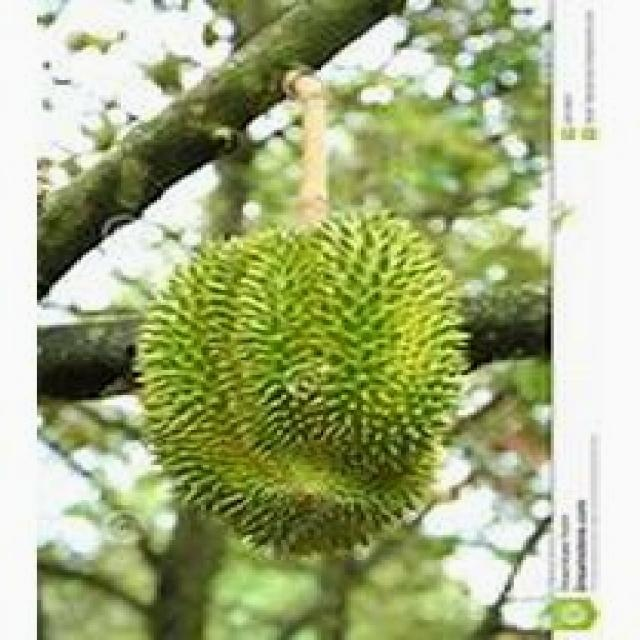agrume: (99, 190, 483, 565)
